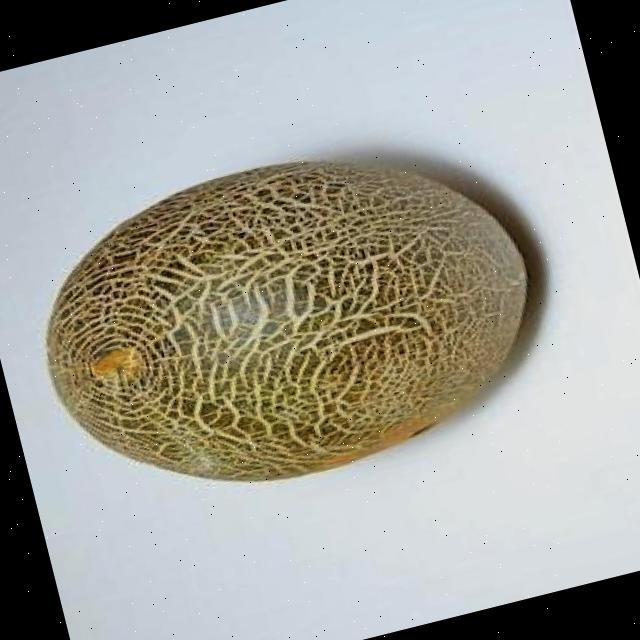Hami Melon: (11, 109, 558, 527)
